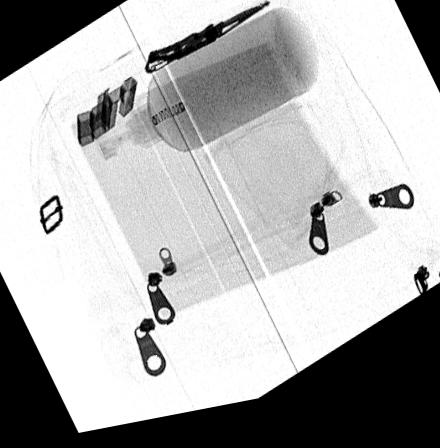Knife: (142, 10, 271, 81)
